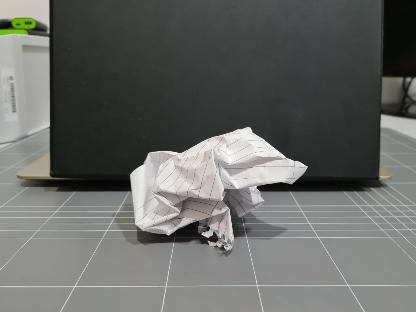Paper: (126, 130, 308, 246)
